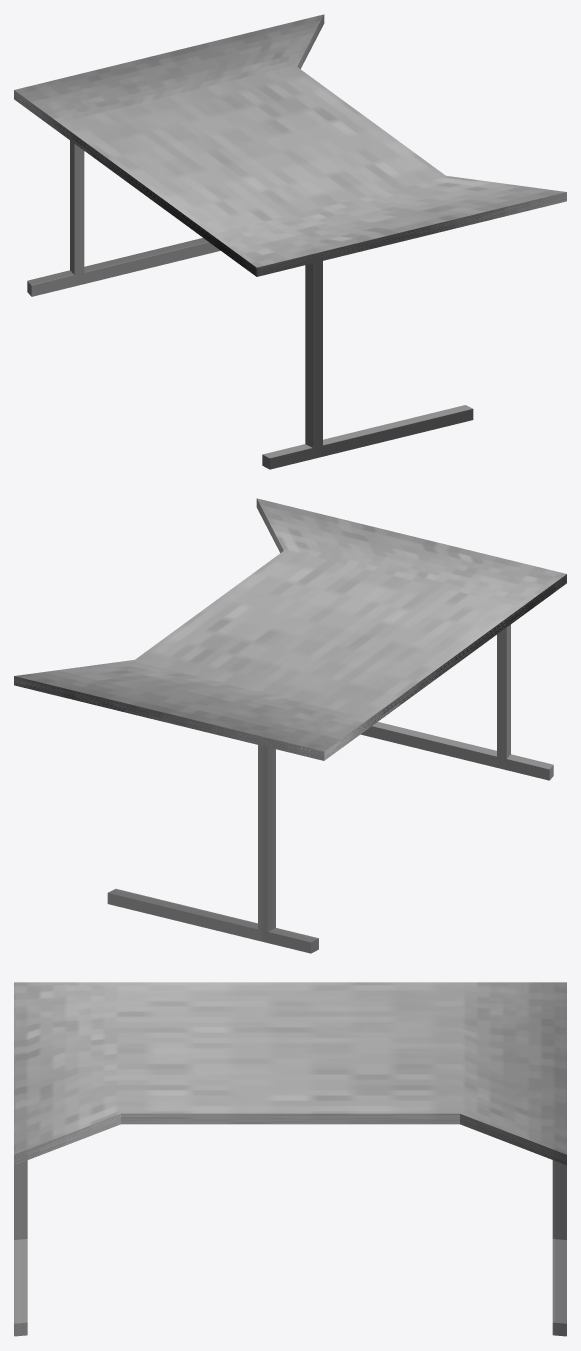
The model's file is securitytable.fbx.
The picture shows the model from 3 angles, top to bottom: view 1: azimuth 30°, elevation 25°; view 2: azimuth 150°, elevation 25°; view 3: azimuth 270°, elevation 25°; orthographic projection. The views are drawn at different scales.
Visible parts, largest first — view 1: Cube; view 2: Cube; view 3: Cube.
Boxes of the visible parts, x1,y1,x2,y2 form: Cube: [14, 14, 566, 469]; Cube: [14, 498, 566, 953]; Cube: [14, 982, 566, 1336].
Bounding box in the file's own units: 173 × 110 × 235.
Materials: 1 (1 with a texture image).
